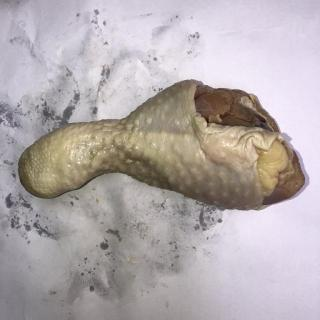Ayam: (18, 79, 306, 212)
